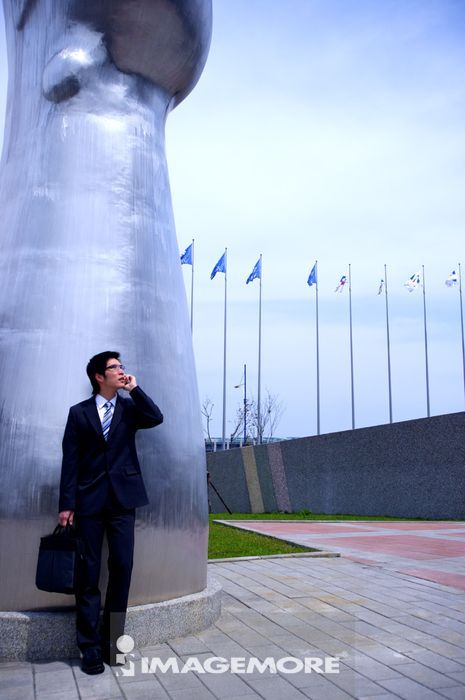talk: (106, 362, 137, 391)
